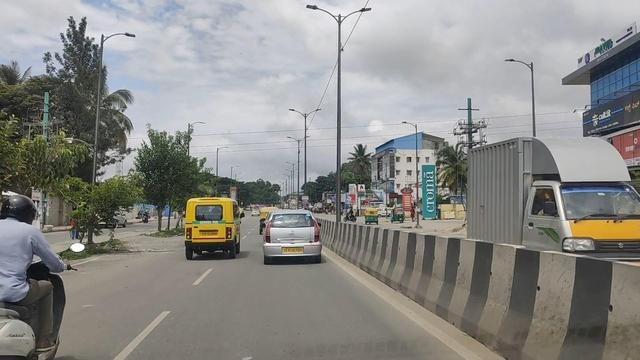LMV: (0, 193, 79, 360), (176, 197, 247, 261), (251, 206, 322, 269)
